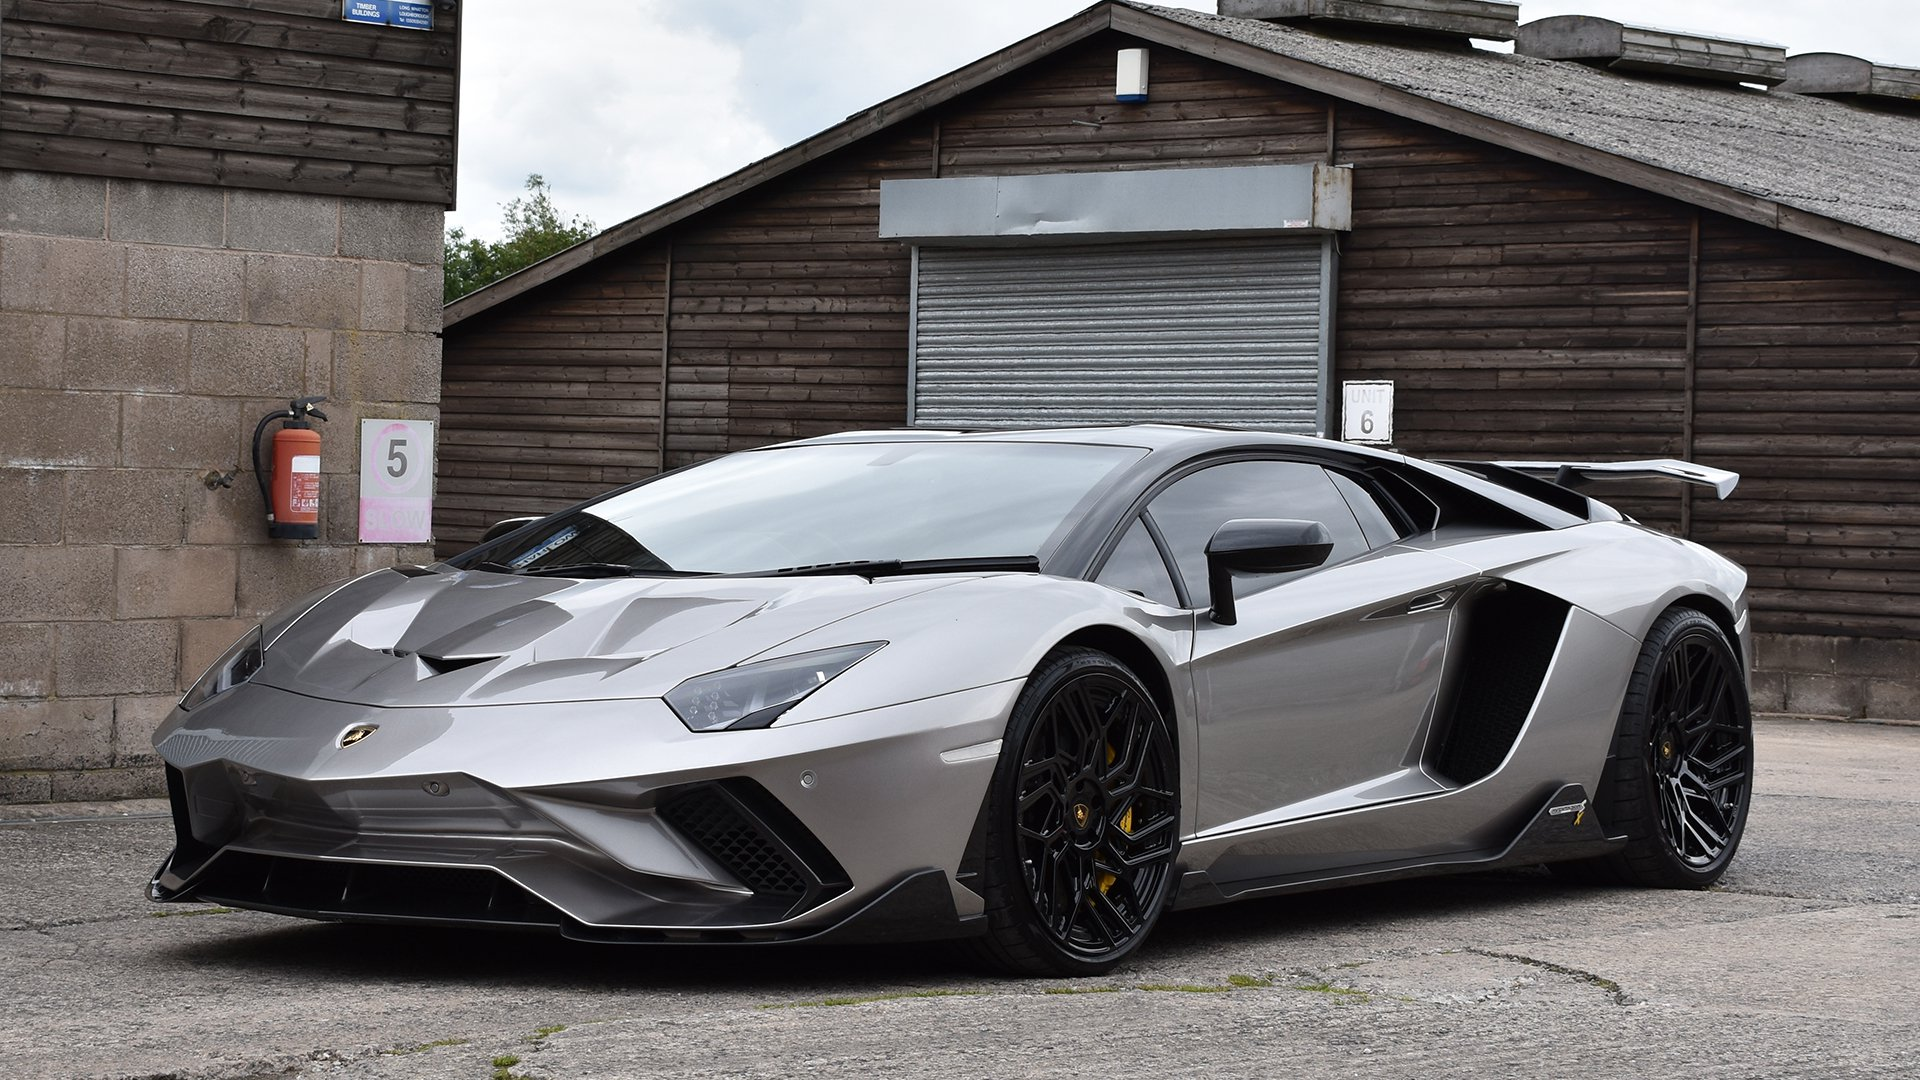car: (154, 429, 1768, 975)
